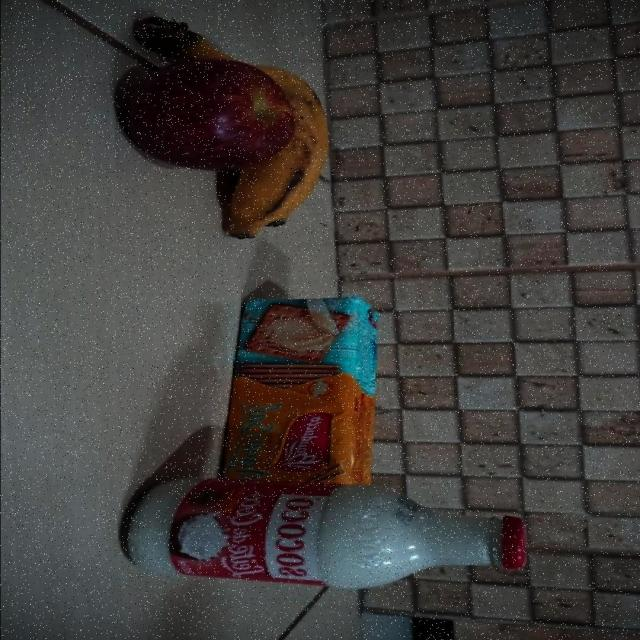Apple: (124, 59, 296, 170)
Banana: (275, 64, 331, 239)
CoconutMilk: (122, 476, 527, 589)
Cracker: (216, 294, 382, 486)
